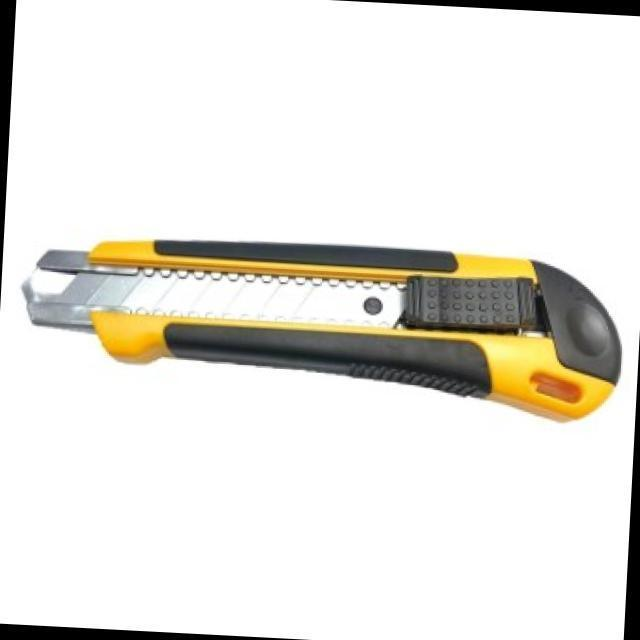cutter: (8, 202, 635, 436)
